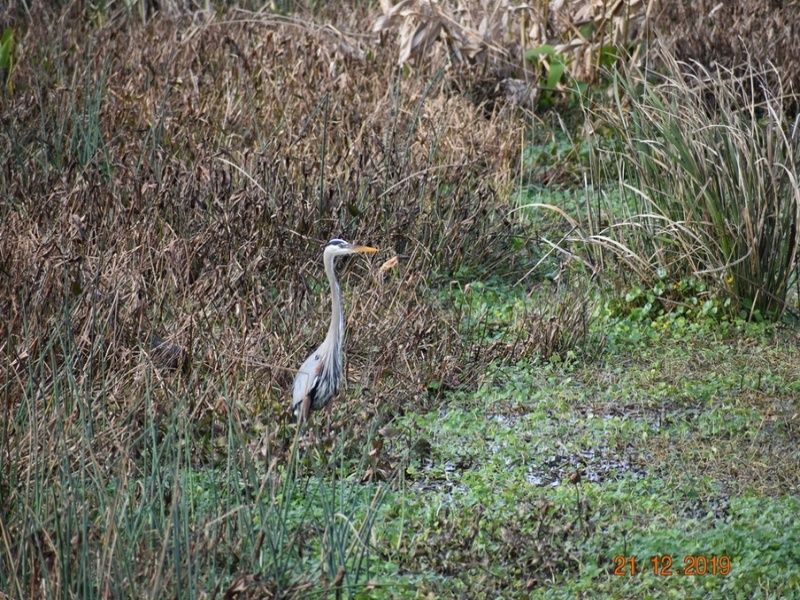heron: (290, 236, 377, 423)
